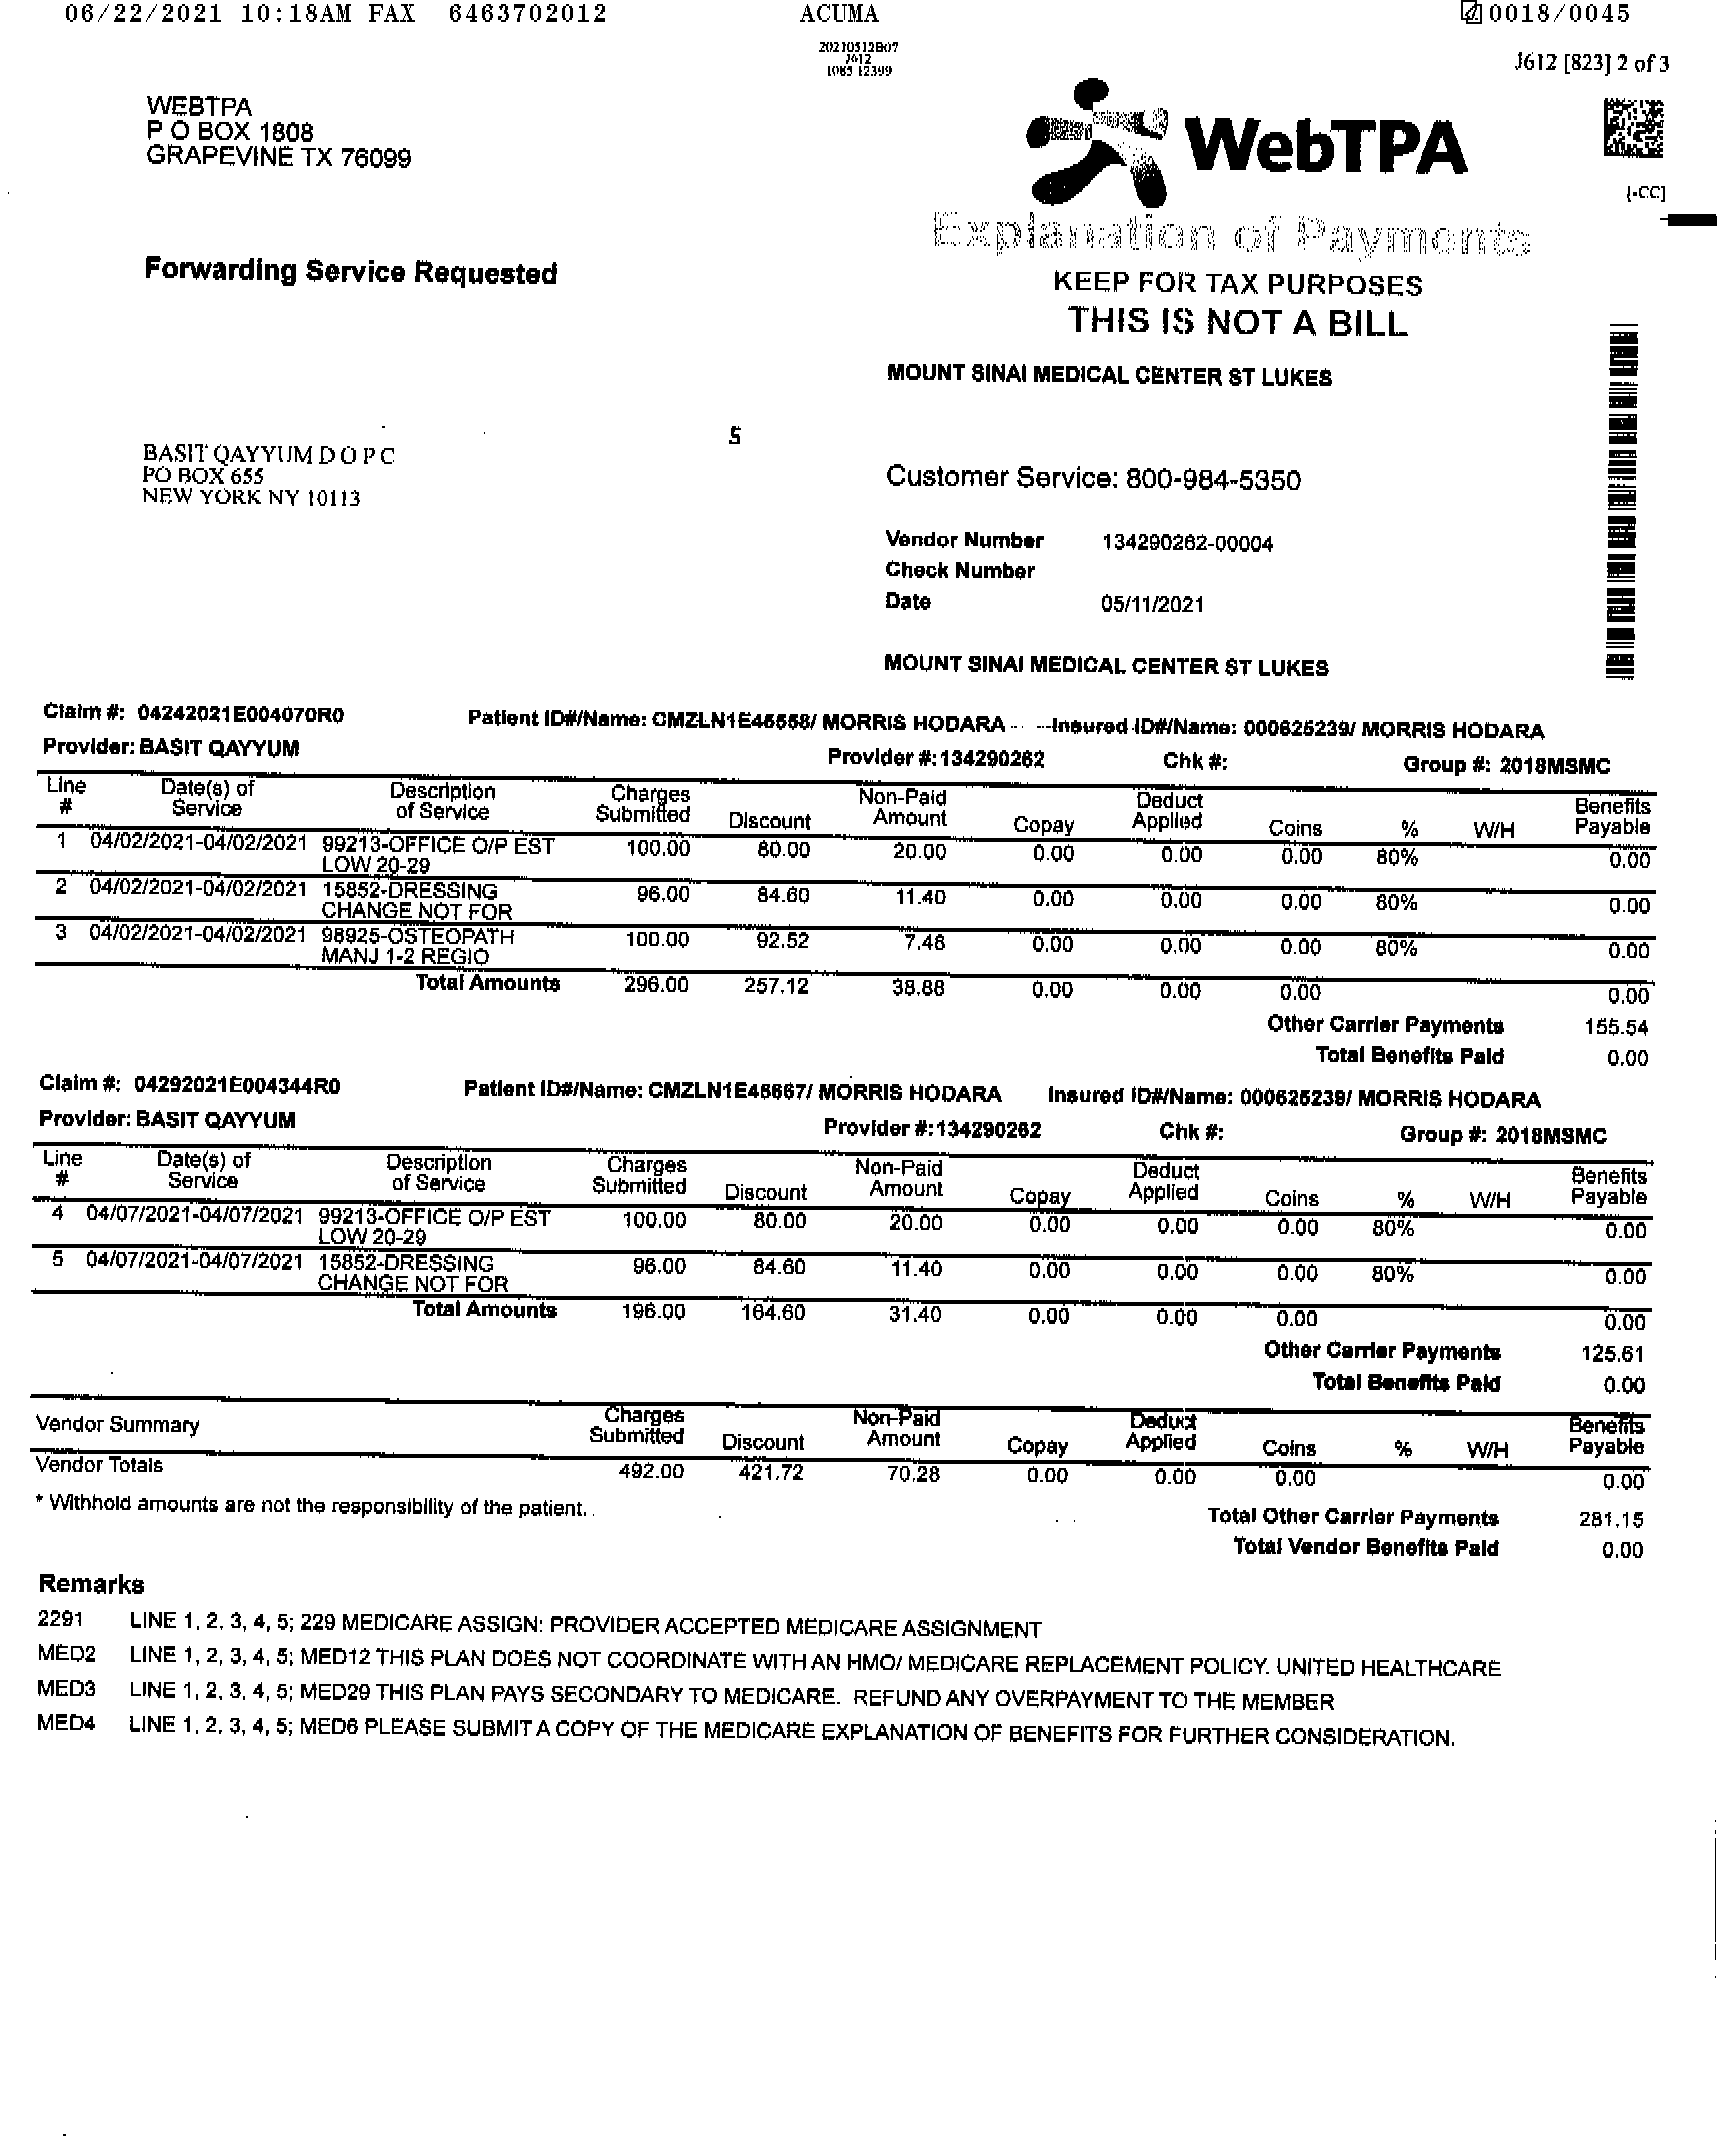data: (26, 1052, 1620, 1158), (16, 680, 1615, 783), (860, 458, 1324, 633)
table: (23, 765, 1672, 1012), (12, 1135, 1663, 1338)
